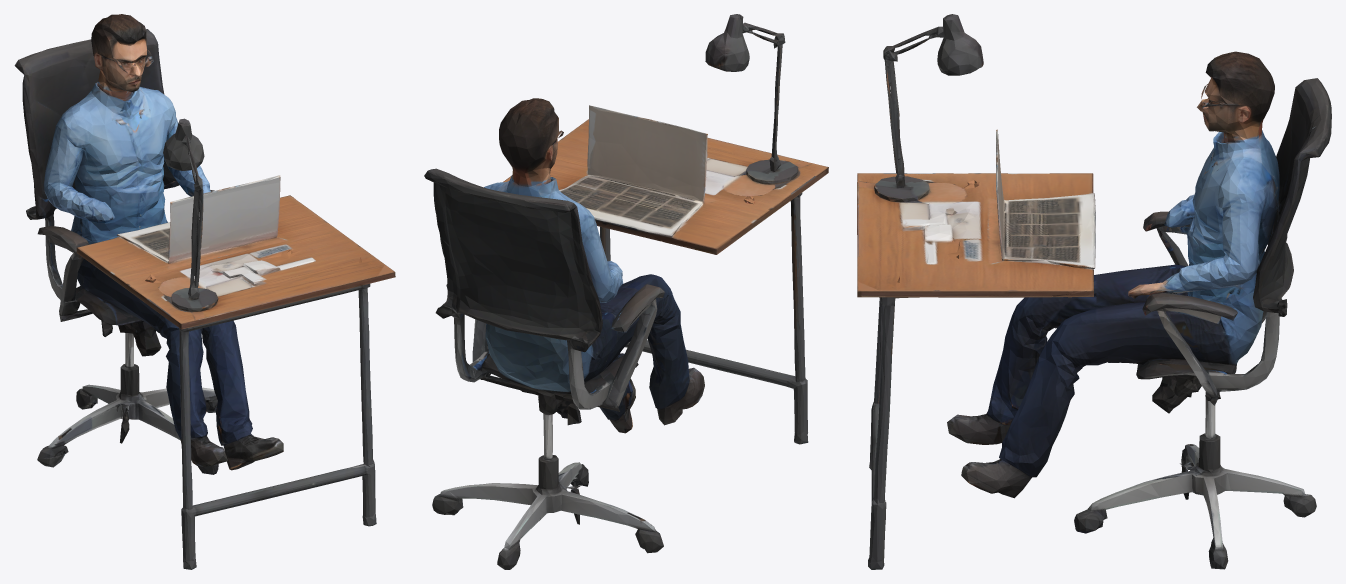
3 renders of one model, left to right at view 1: azimuth 30°, elevation 25°; view 2: azimuth 150°, elevation 25°; view 3: azimuth 270°, elevation 25°, orthographic. The views are drawn at different scales.
Parts seen in each view (by area): view 1: temp; view 2: temp; view 3: temp.
Boxes of the visible parts, box(x1,y1,x2,y2) form: temp: box(14, 14, 395, 569); temp: box(424, 14, 828, 569); temp: box(857, 14, 1331, 569).
Size of the model in its own units: 108 by 199 by 183.
Materials: 1 (1 with a texture image).
